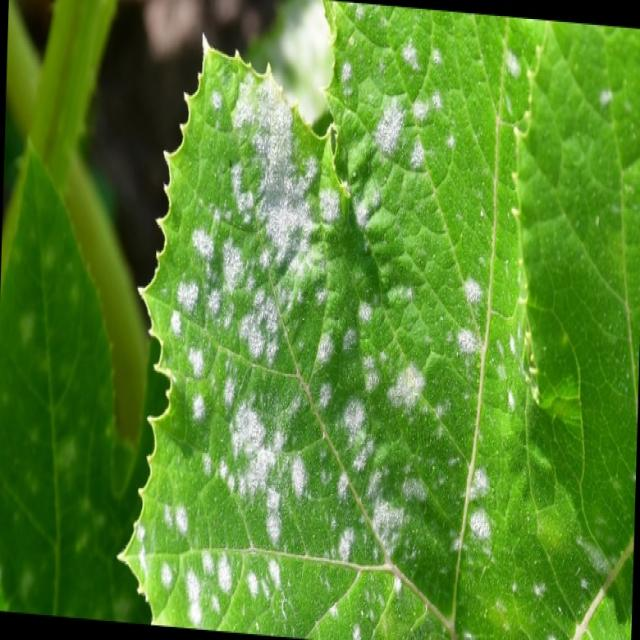Powdery Mildew: (115, 4, 637, 636)
